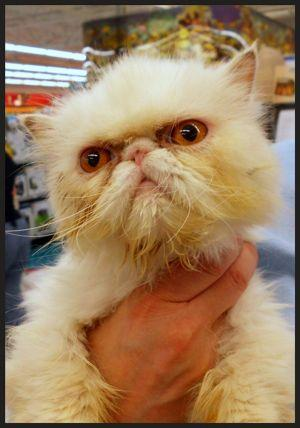persian: (6, 26, 298, 293)
